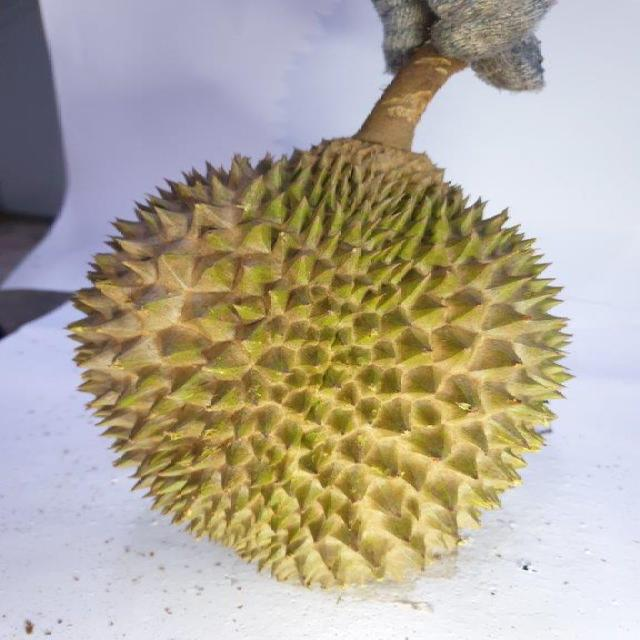immature: (57, 148, 577, 588)
